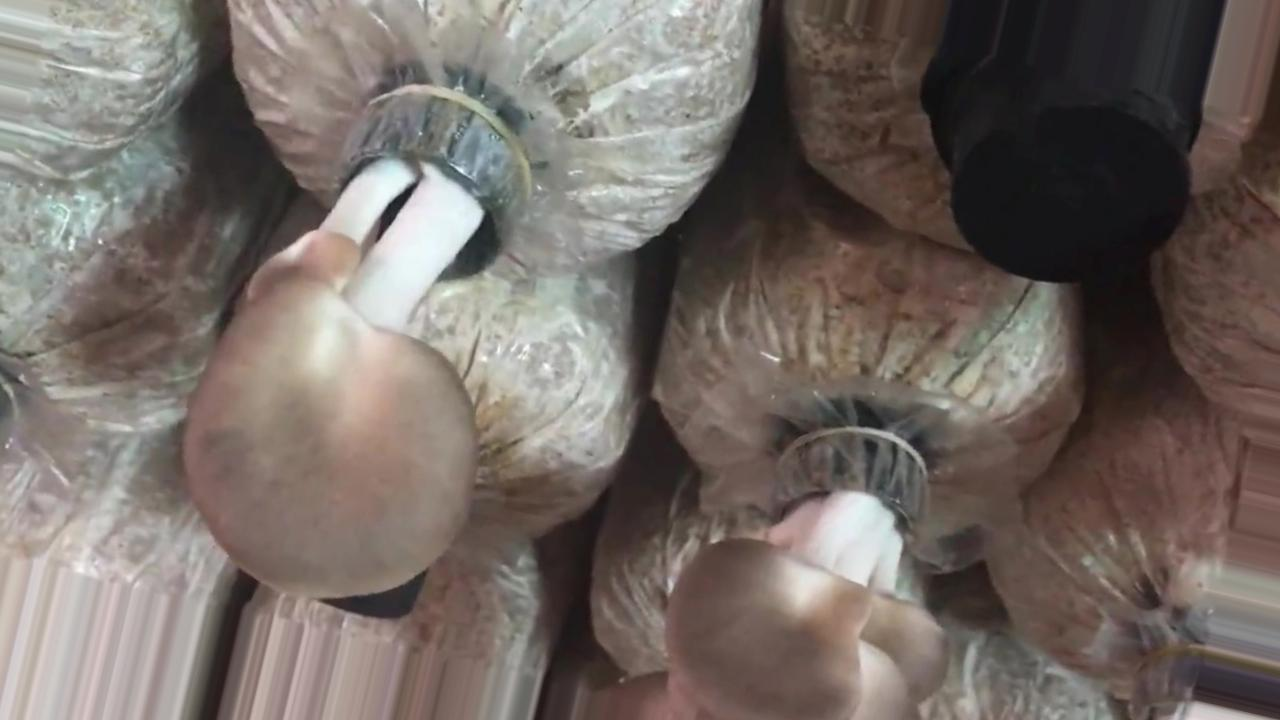nam: (183, 87, 531, 598), (593, 434, 949, 720)
